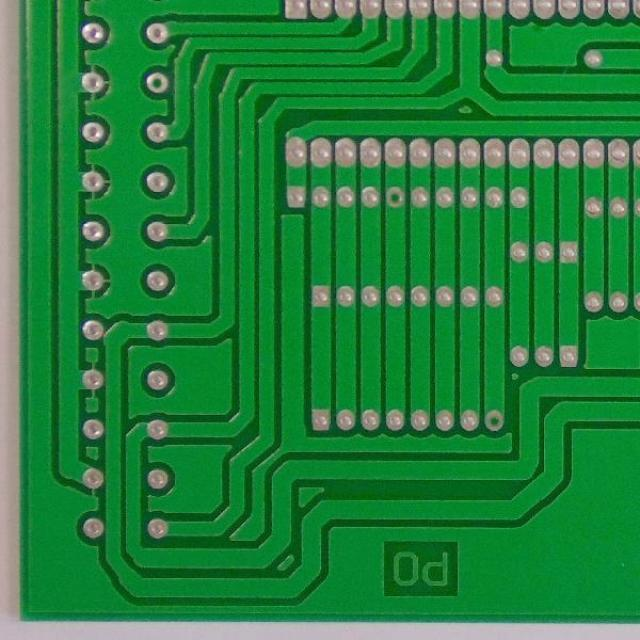Missing_Hole: (383, 187, 405, 209), (484, 410, 506, 432), (145, 73, 168, 94)
